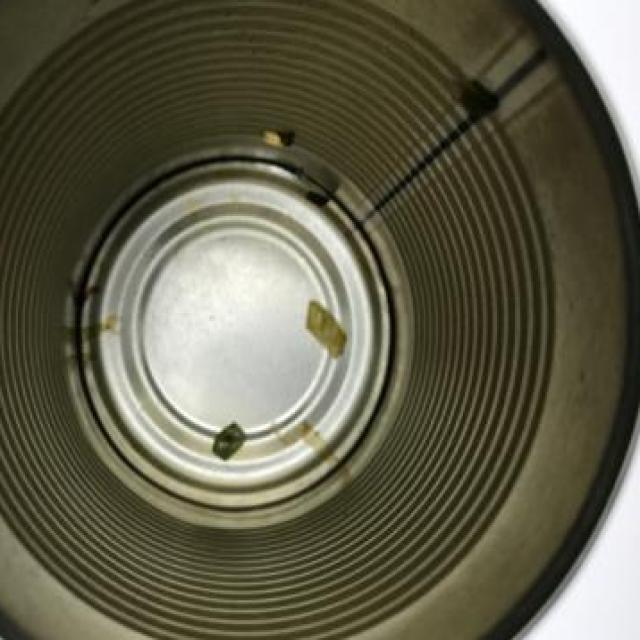organic: (15, 18, 568, 586)
